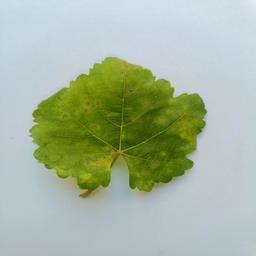Powdery-Mildew: (158, 101, 200, 139), (75, 139, 113, 181), (61, 90, 98, 122), (96, 64, 125, 85)
